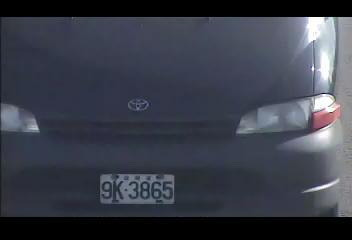plate: (98, 172, 177, 205)
